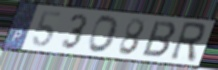3: (60, 13, 88, 51)
5: (31, 10, 64, 48)
8: (117, 17, 146, 57)
B: (140, 19, 179, 59)
O: (87, 14, 121, 54)
R: (167, 21, 208, 65)
